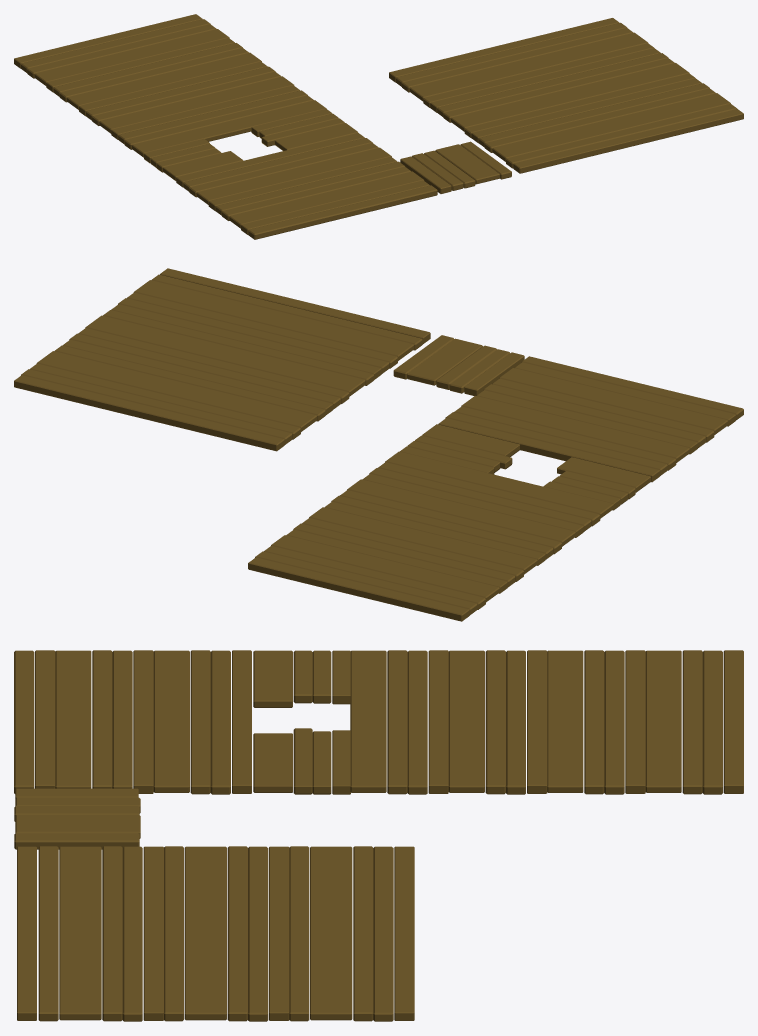
File: ceilingmodel.fbx
3 renders of one model, top to bottom at view 1: azimuth 30°, elevation 25°; view 2: azimuth 150°, elevation 25°; view 3: azimuth 270°, elevation 25°, orthographic. The views are drawn at different scales.
Parts seen in each view (by area): view 1: ceilingmodel; view 2: ceilingmodel; view 3: ceilingmodel.
Boxes of the visible parts, left/top/right/bottom form: ceilingmodel: left=14, top=14, right=743, bottom=239; ceilingmodel: left=14, top=268, right=743, bottom=621; ceilingmodel: left=14, top=650, right=743, bottom=1021.
Bounding box in the file's own units: 34.22 × 0.5315 × 28.96.
